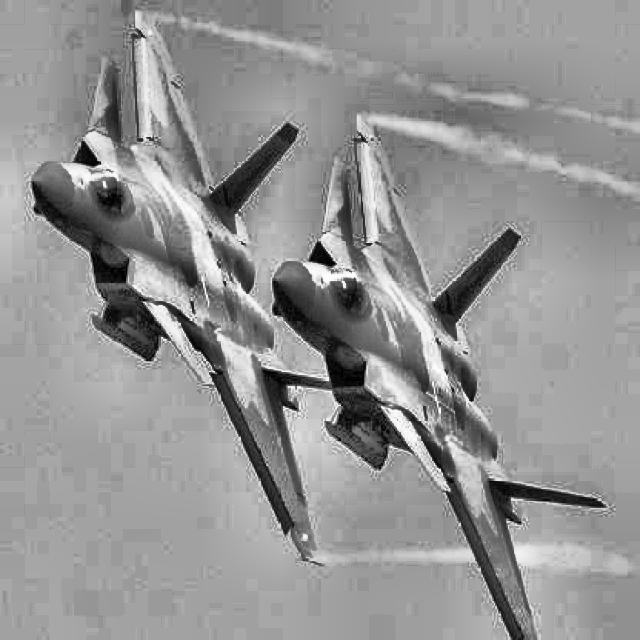J20: (271, 112, 606, 640), (30, 10, 332, 568)
